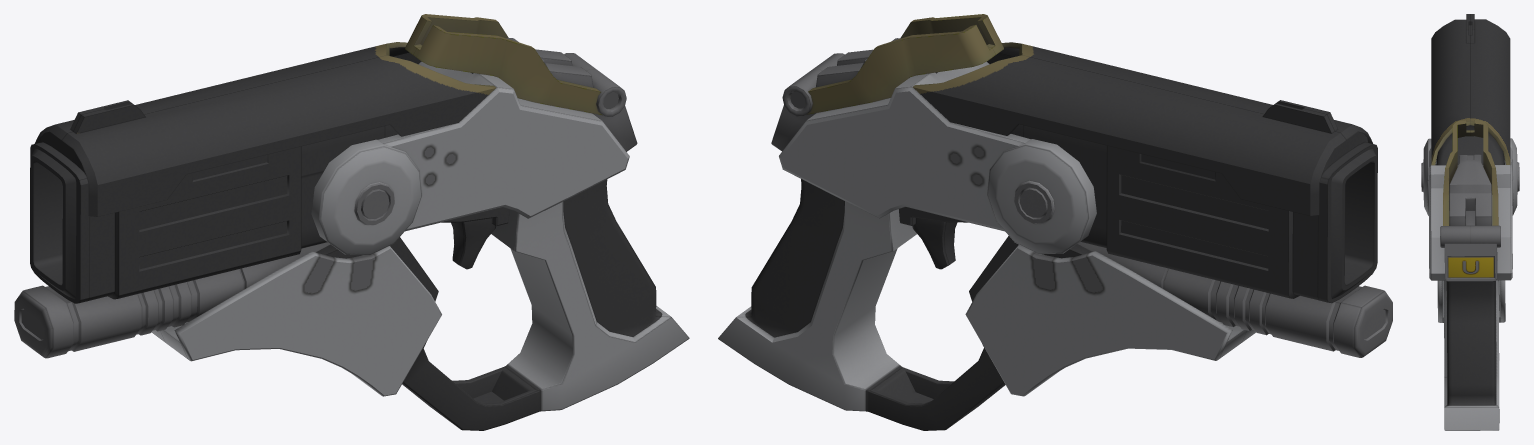
Rendered from mercys_caduceus_blaster.glb.
3 renders of one model, left to right at view 1: azimuth 30°, elevation 25°; view 2: azimuth 150°, elevation 25°; view 3: azimuth 270°, elevation 25°, orthographic. The views are drawn at different scales.
Parts seen in each view (by area): view 1: Pistol; view 2: Pistol; view 3: Pistol.
Boxes of the visible parts, bbox=[...] form: Pistol: bbox=[14, 14, 689, 430]; Pistol: bbox=[718, 14, 1392, 430]; Pistol: bbox=[1421, 14, 1519, 430].
Size of the model in its own units: 26.24 by 15.98 by 5.38.
Materials: 1 (1 with a texture image).
